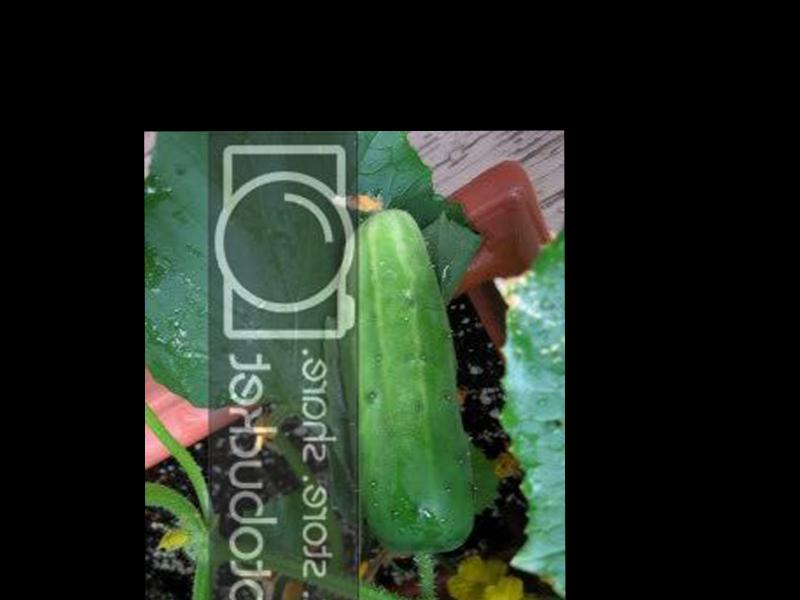Cucumber: (336, 205, 475, 550)
